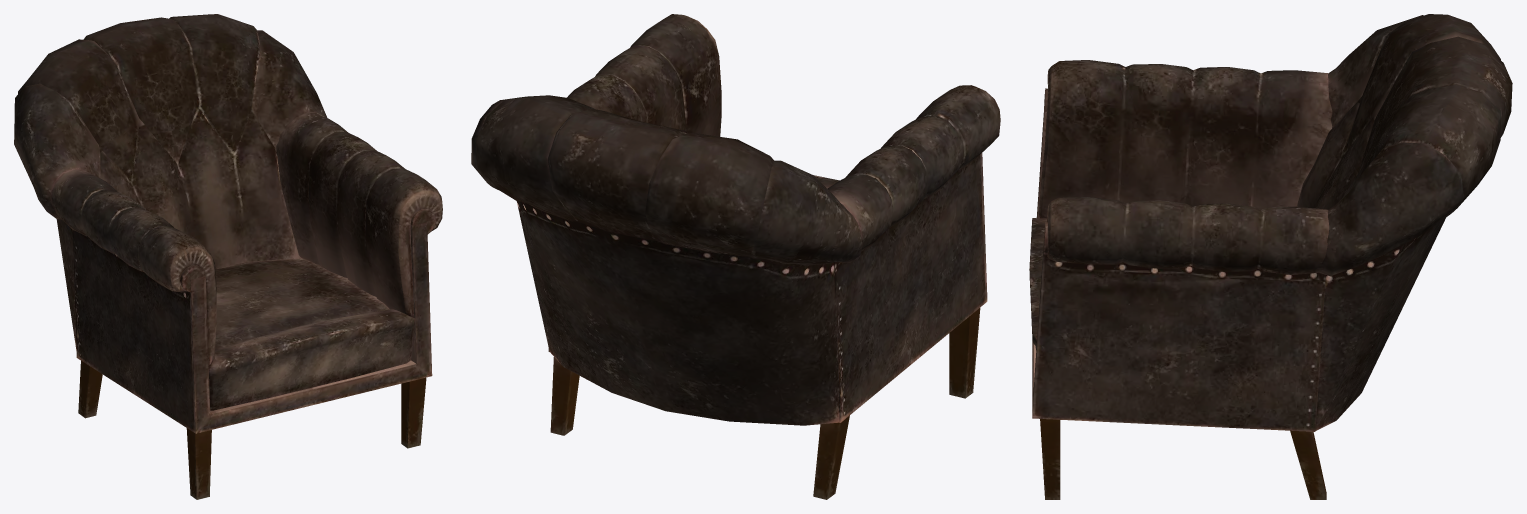
Rendered from old_leather_armchair-opt.glb.
3 renders of one model, left to right at view 1: azimuth 30°, elevation 25°; view 2: azimuth 150°, elevation 25°; view 3: azimuth 270°, elevation 25°, orthographic. The views are drawn at different scales.
Visible parts, largest first — view 1: Object_2; view 2: Object_2; view 3: Object_2.
Boxes of the visible parts, <box> form: Object_2: <box>14,14,442,499</box>; Object_2: <box>471,14,1000,499</box>; Object_2: <box>1029,14,1512,499</box>.
Size of the model in its own units: 90.43 by 95.37 by 110.
Materials: 1 (1 with a texture image).
